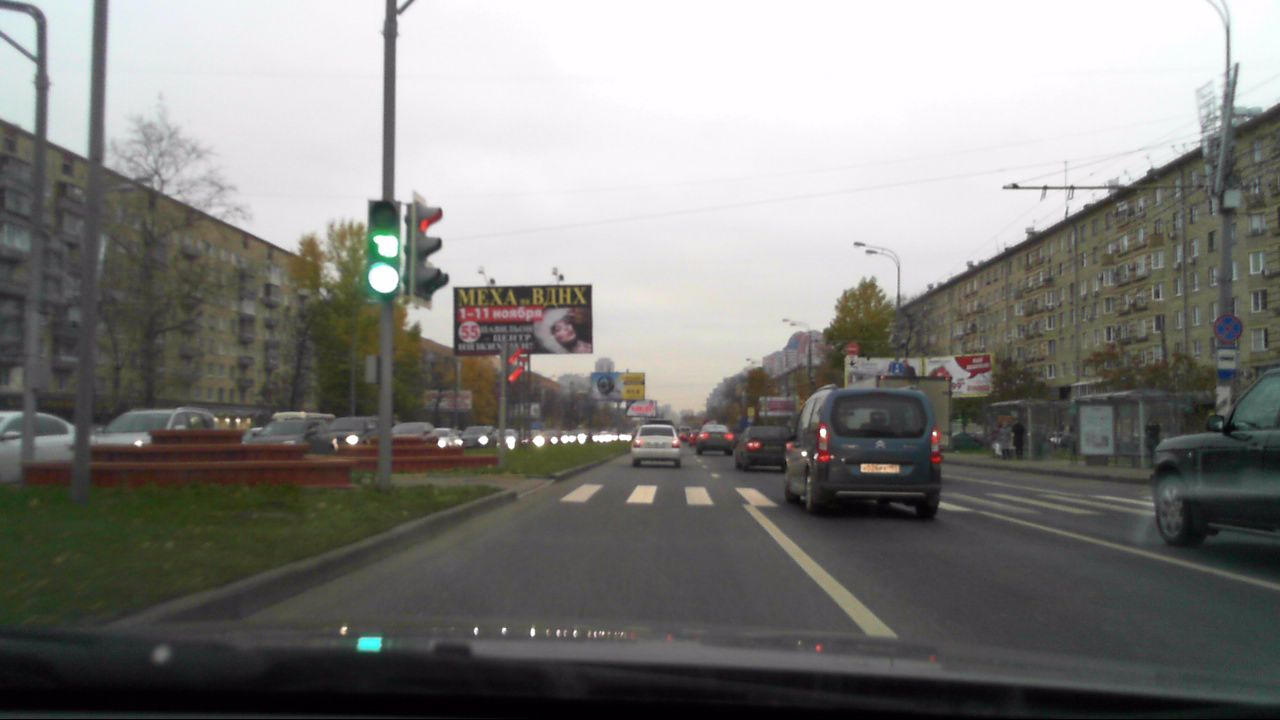No Parking: (1212, 313, 1243, 343)
